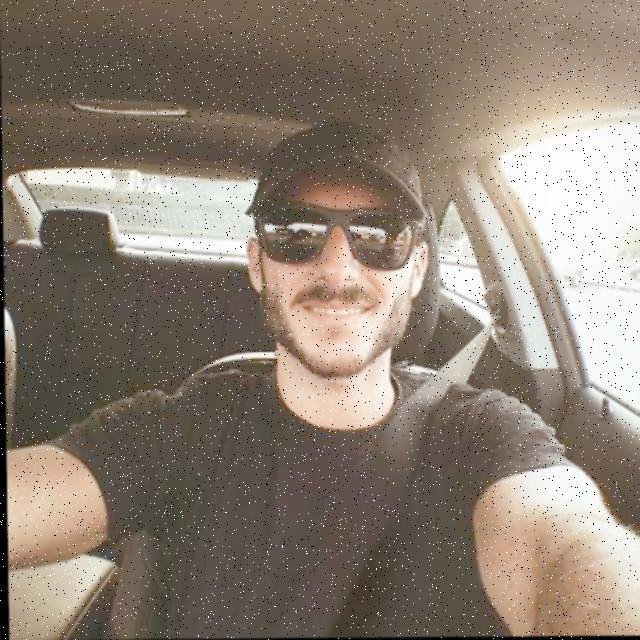seatbelt: (239, 372, 472, 638)
